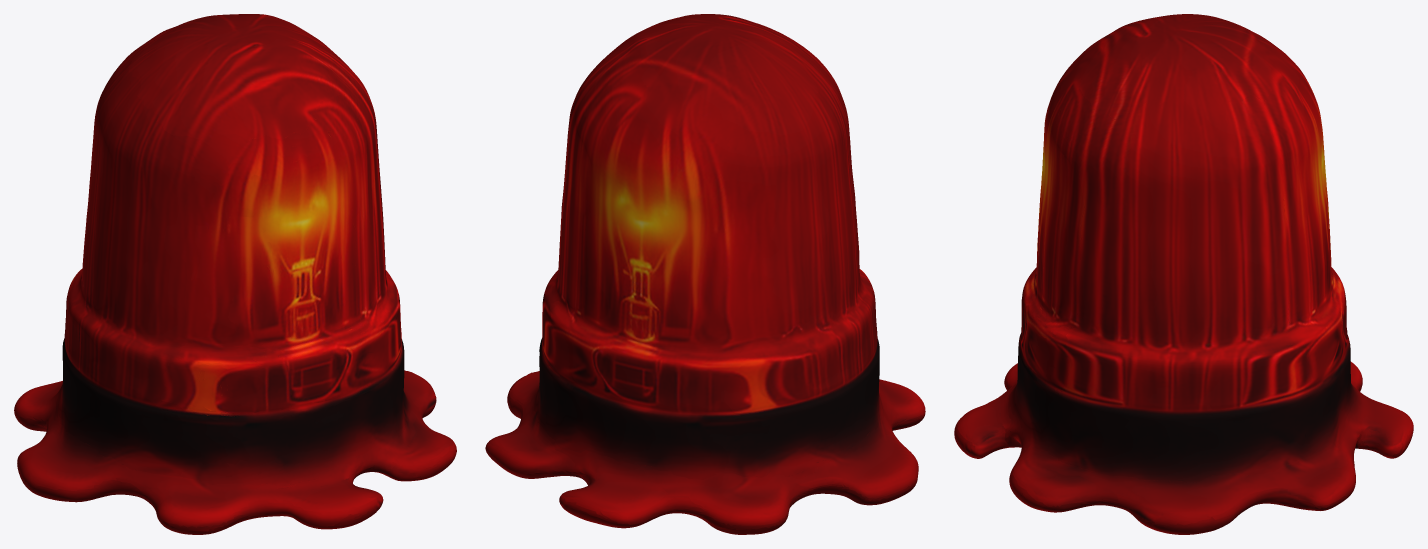
The model's file is sirena.glb.
The picture shows the model from 3 angles, left to right: view 1: azimuth 30°, elevation 25°; view 2: azimuth 150°, elevation 25°; view 3: azimuth 270°, elevation 25°; orthographic projection.
Visible parts, largest first — view 1: tmp4dmski9w.ply; view 2: tmp4dmski9w.ply; view 3: tmp4dmski9w.ply.
Part boxes in pixels (<box>): tmp4dmski9w.ply: <box>14,14,456,534</box>; tmp4dmski9w.ply: <box>485,14,925,534</box>; tmp4dmski9w.ply: <box>954,14,1413,534</box>.
Bounding box in the file's own units: 1.96 × 1.96 × 1.95.
Materials: 1 (1 with a texture image).
